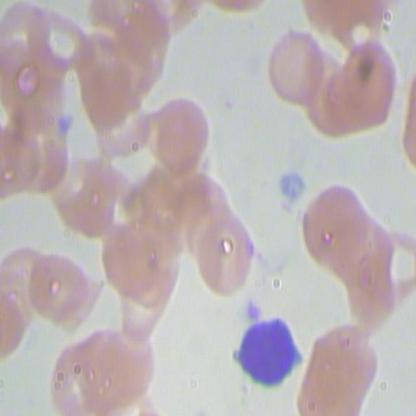Platelets: (272, 164, 311, 205), (52, 111, 75, 140), (242, 297, 264, 324)
RBC: (332, 33, 402, 126), (26, 240, 96, 333), (52, 144, 122, 237), (92, 315, 162, 408), (299, 51, 369, 144), (297, 179, 367, 271), (147, 86, 216, 179), (187, 206, 256, 299), (93, 212, 162, 305), (94, 317, 163, 410), (263, 22, 332, 114), (311, 321, 380, 413), (71, 36, 140, 128), (1, 111, 69, 204), (40, 332, 110, 415), (26, 1, 97, 82), (107, 1, 178, 82), (1, 240, 51, 328), (370, 222, 415, 309)
WBC: (229, 315, 309, 387)
